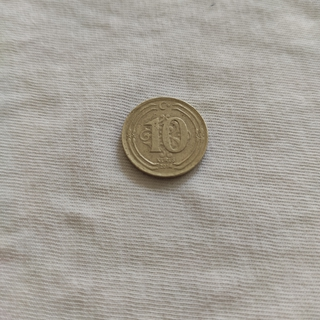10KURUS: (119, 94, 210, 179)
